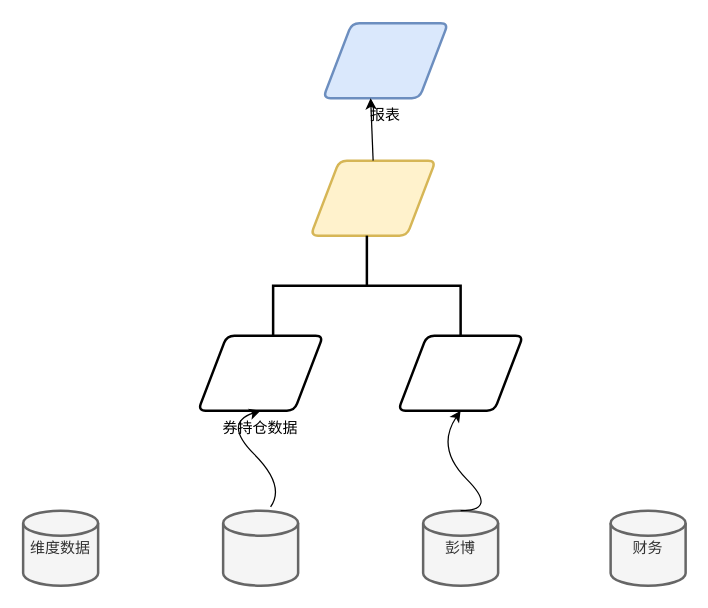
Image size: 708x608. Some labels were removed from this diagram. The shapes that lost their labels are listed below. From the top down, each one's centre as x and y in pixels, then its label:
[372,197]: 报表中间数据
[460,372]: 彭博调整数据
[260,547]: hiportfolio
